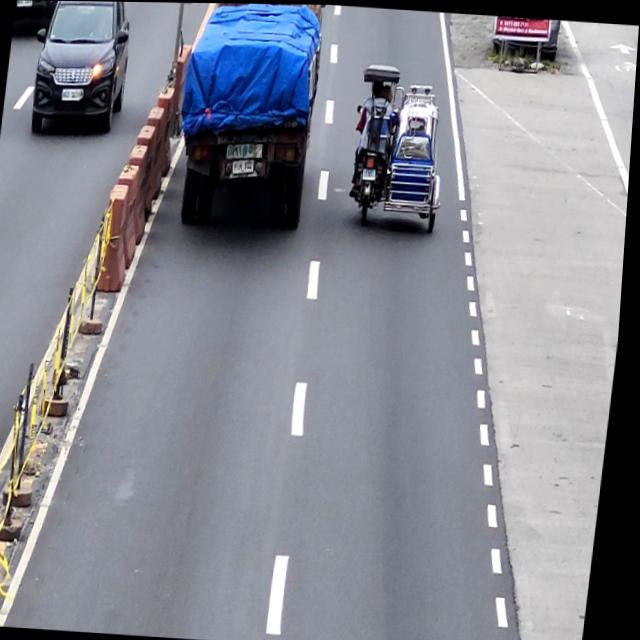License-Plate: (231, 157, 259, 174), (364, 166, 379, 179)
Tricycle: (347, 58, 458, 237)
Truck: (168, 2, 332, 234)
